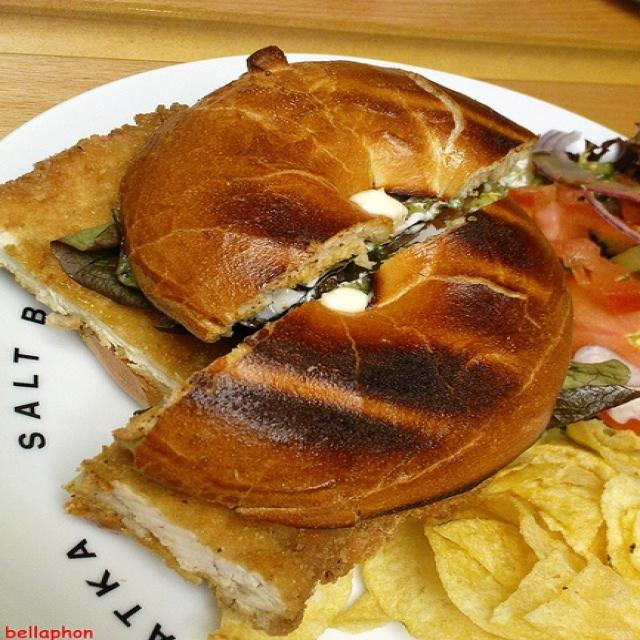面包点心: (87, 40, 591, 549)
